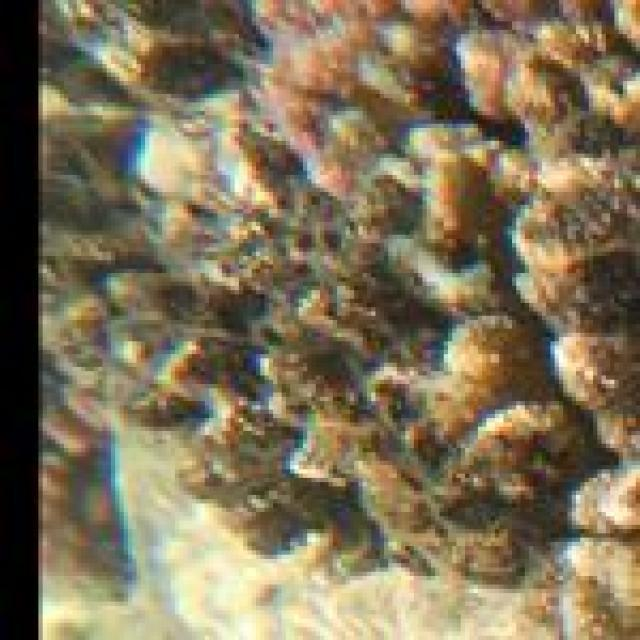Healthy Coral: (132, 218, 640, 594), (250, 4, 640, 176)
